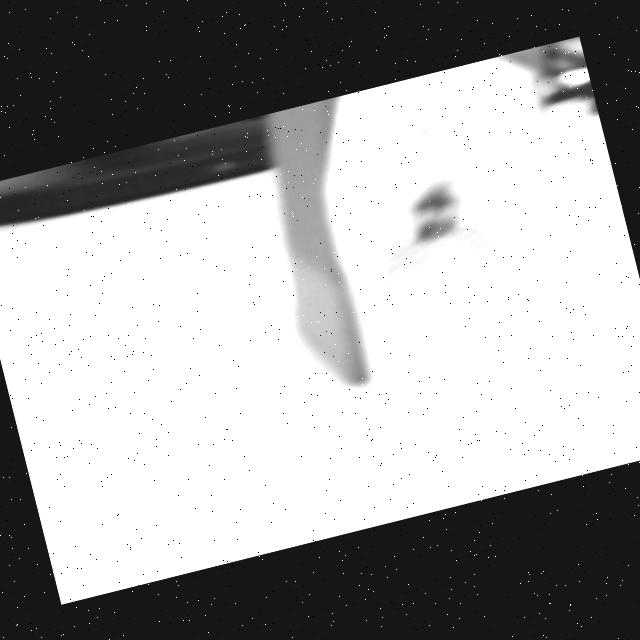Tsunami: (368, 122, 518, 289)
